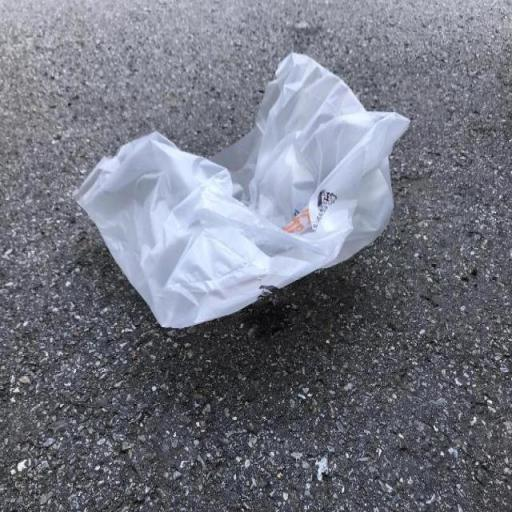plastic-bag: (70, 47, 416, 333)
